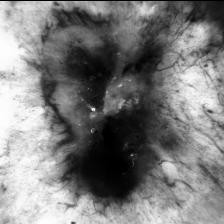Potentially Malignant Skin Tumors: (60, 34, 154, 194)
